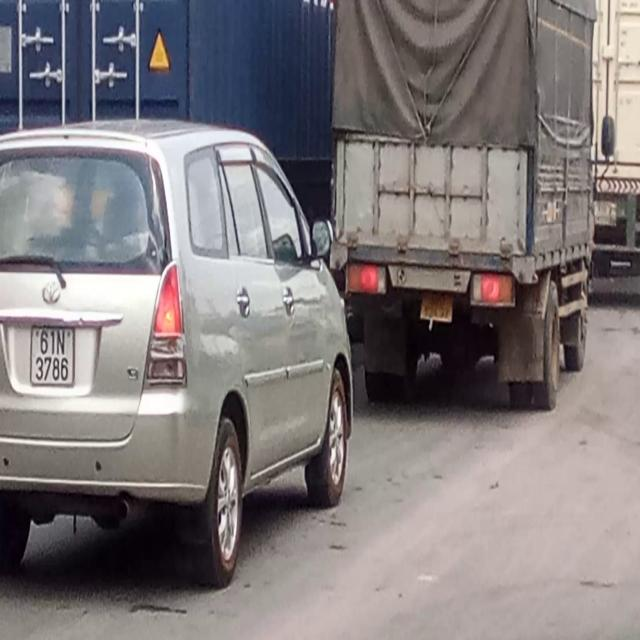bien_trang: (28, 322, 78, 384)
bien_vang: (415, 288, 458, 322)
